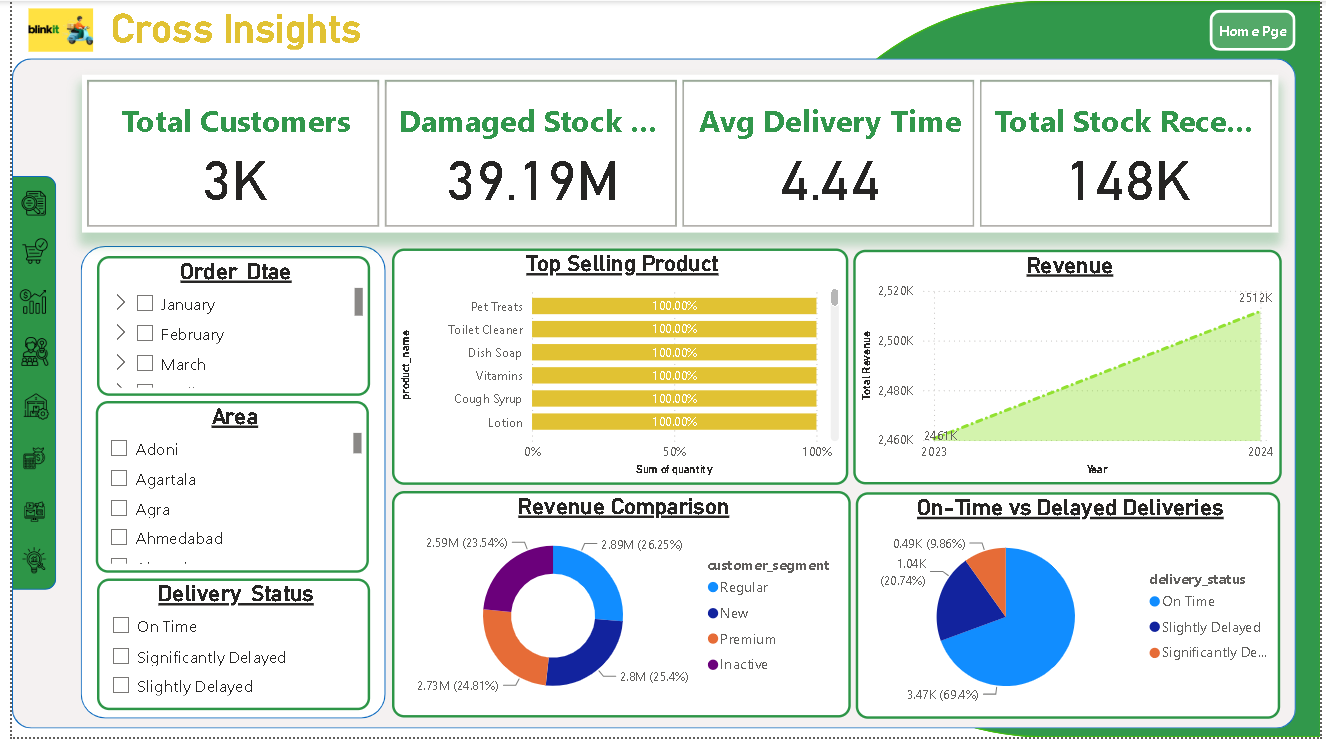

What the dashboard file says about the page in this screenshot:
{"tool":"powerbi","page":{"name":"Cross Insights","canvas":[1280,720],"ordinal":8},"visuals":[{"type":"group","id":"g1","title":"Group 2","box":[0,0,1280,720.2],"z":0},{"type":"shape","box":[67.2,239.1,298.2,462.1],"z":0,"group":"g5"},{"type":"shape","box":[740.7,0,539.3,720.2],"z":1000,"group":"g1"},{"type":"shape","box":[740.7,0,539.3,720.2],"z":1000,"group":"g2"},{"type":"image","box":[7.3,2.4,80.7,52.6],"z":1000},{"type":"slicer","title":"Area","fields":{"Values":["blinkit_customers.area"]},"box":[82,390.9,267.3,167.9],"z":1000,"group":"g5"},{"type":"textbox","title":"Cross  Insights","box":[91.2,3.8,262.5,52.5],"z":2000},{"type":"shape","box":[0,56.3,1255.8,655.4],"z":2000,"group":"g1"},{"type":"shape","box":[0,56.3,1255.8,655.4],"z":2000,"group":"g2"},{"type":"slicer","title":"Delivery_Status","fields":{"Values":["blinkit_delivery_performance.delivery_status"]},"box":[83.3,564.2,267.3,129],"z":2000,"group":"g5"},{"type":"group","id":"g2","title":"Group 2","box":[0,0,1280,720.2],"z":3000},{"type":"group","id":"g3","title":"Group 1","box":[0,171.2,46.5,404.8],"z":3000,"group":"g1"},{"type":"group","id":"g4","title":"Group 1","box":[0,171.2,46.5,404.8],"z":3000,"group":"g2"},{"type":"slicer","title":"Order_Dtae","fields":{"Values":["blinkit_orders.order_date.Variation.Date Hierarchy.Month","blinkit_orders.order_date.Variation.Date Hierarchy.Day"]},"box":[83.2,248.3,267.3,137.2],"z":3000,"group":"g5"},{"type":"group","id":"g5","title":"Group 2","box":[67.2,239.1,298.2,462.1],"z":4000},{"type":"cardVisual","fields":{"Data":["blinkit_customer_feedback.Total Customers","blinkit_customer_feedback.Damaged Stock Cost","blinkit_customer_feedback.Avg Delivery Time","blinkit_customer_feedback.Total Stock Received"]},"box":[68.5,72.5,1170.1,154.5],"z":5000},{"type":"areaChart","title":"Revenue","fields":{"Category":["blinkit_orders.order_date.Variation.Date Hierarchy.Year","blinkit_orders.order_date.Variation.Date Hierarchy.Month","blinkit_orders.order_date.Variation.Date Hierarchy.Day"],"Y":["blinkit_customer_feedback.Total Revenue"]},"box":[823.5,243.2,419.1,229.7],"z":6000},{"type":"shape","box":[0,171.2,43.2,404.8],"z":7000,"group":"g3"},{"type":"shape","box":[0,171.2,43.2,404.8],"z":7000,"group":"g4"},{"type":"hundredPercentStackedBarChart","title":"Top Selling Product","fields":{"Category":["blinkit_products.product_name"],"Y":["Sum(blinkit_order_items.quantity)"]},"box":[372.1,241.8,446,231.1],"z":7000},{"type":"donutChart","title":"Revenue Comparison","fields":{"Category":["blinkit_customers.customer_segment"],"Y":["Sum(blinkit_orders.order_total)"]},"box":[372.1,479.6,448.7,221.7],"z":8000},{"type":"image","box":[0.8,180.4,40,34],"z":9000,"group":"g3"},{"type":"image","box":[0.8,180.4,40,34],"z":9000,"group":"g4"},{"type":"pieChart","title":"On-Time vs Delayed Deliveries","fields":{"Y":["CountNonNull(blinkit_delivery_performance.delivery_status)"],"Category":["blinkit_delivery_performance.delivery_status"]},"box":[824.9,480.9,415.1,221.7],"z":9000},{"type":"shape","box":[1171.5,8.6,84.4,40.4],"z":10000},{"type":"image","box":[0.8,227.7,42.1,34.8],"z":10000,"group":"g3"},{"type":"image","box":[0.8,227.7,42.1,34.8],"z":10000,"group":"g4"},{"type":"image","box":[0.8,275.8,38.9,35.7],"z":11000,"group":"g3"},{"type":"image","box":[0.8,275.8,38.9,35.7],"z":11000,"group":"g4"},{"type":"image","box":[0.8,323.9,42.1,38.2],"z":12000,"group":"g3"},{"type":"image","box":[0.8,323.9,42.1,38.2],"z":12000,"group":"g4"},{"type":"image","box":[0.8,378.6,45.4,35.7],"z":13000,"group":"g3"},{"type":"image","box":[0.8,378.6,45.4,35.7],"z":13000,"group":"g4"},{"type":"image","box":[0.8,431.7,41.1,31.5],"z":14000,"group":"g3"},{"type":"image","box":[0.8,431.7,41.1,31.5],"z":14000,"group":"g4"},{"type":"image","box":[0.8,484.8,42.1,30.7],"z":15000,"group":"g3"},{"type":"image","box":[0.8,484.8,42.1,30.7],"z":15000,"group":"g4"},{"type":"image","box":[1.9,529.6,38.9,35.7],"z":16000,"group":"g3"},{"type":"image","box":[1.9,529.6,38.9,35.7],"z":16000,"group":"g4"}]}

Visuals, with their boxes in screenshot pixels (x1, y1, x2, y2), scaled from the page's 1280x720 canvas onto the 1326x744 screenshot:
"Group 2" group: 0, 0, 1325, 743
shape: 70, 247, 379, 725
shape: 767, 0, 1325, 743
shape: 767, 0, 1325, 743
image: 8, 2, 91, 57
"Area" slicer: 85, 404, 362, 577
"Cross  Insights" textbox: 94, 4, 366, 58
shape: 0, 58, 1301, 735
shape: 0, 58, 1301, 735
"Delivery_Status" slicer: 86, 583, 363, 716
"Group 2" group: 0, 0, 1325, 743
"Group 1" group: 0, 177, 48, 595
"Group 1" group: 0, 177, 48, 595
"Order_Dtae" slicer: 86, 257, 363, 398
"Group 2" group: 70, 247, 379, 725
cardVisual - blinkit_customer_feedback.Total Customers x blinkit_customer_feedback.Damaged Stock Cost: 71, 75, 1283, 235
"Revenue" areaChart: 853, 251, 1287, 489
shape: 0, 177, 45, 595
shape: 0, 177, 45, 595
"Top Selling Product" hundredPercentStackedBarChart: 385, 250, 848, 489
"Revenue Comparison" donutChart: 385, 496, 850, 725
image: 1, 186, 42, 222
image: 1, 186, 42, 222
"On-Time vs Delayed Deliveries" pieChart: 855, 497, 1285, 726
shape: 1214, 9, 1301, 51
image: 1, 235, 44, 271
image: 1, 235, 44, 271
image: 1, 285, 41, 322
image: 1, 285, 41, 322
image: 1, 335, 44, 374
image: 1, 335, 44, 374
image: 1, 391, 48, 428
image: 1, 391, 48, 428
image: 1, 446, 43, 479
image: 1, 446, 43, 479
image: 1, 501, 44, 533
image: 1, 501, 44, 533
image: 2, 547, 42, 584
image: 2, 547, 42, 584
